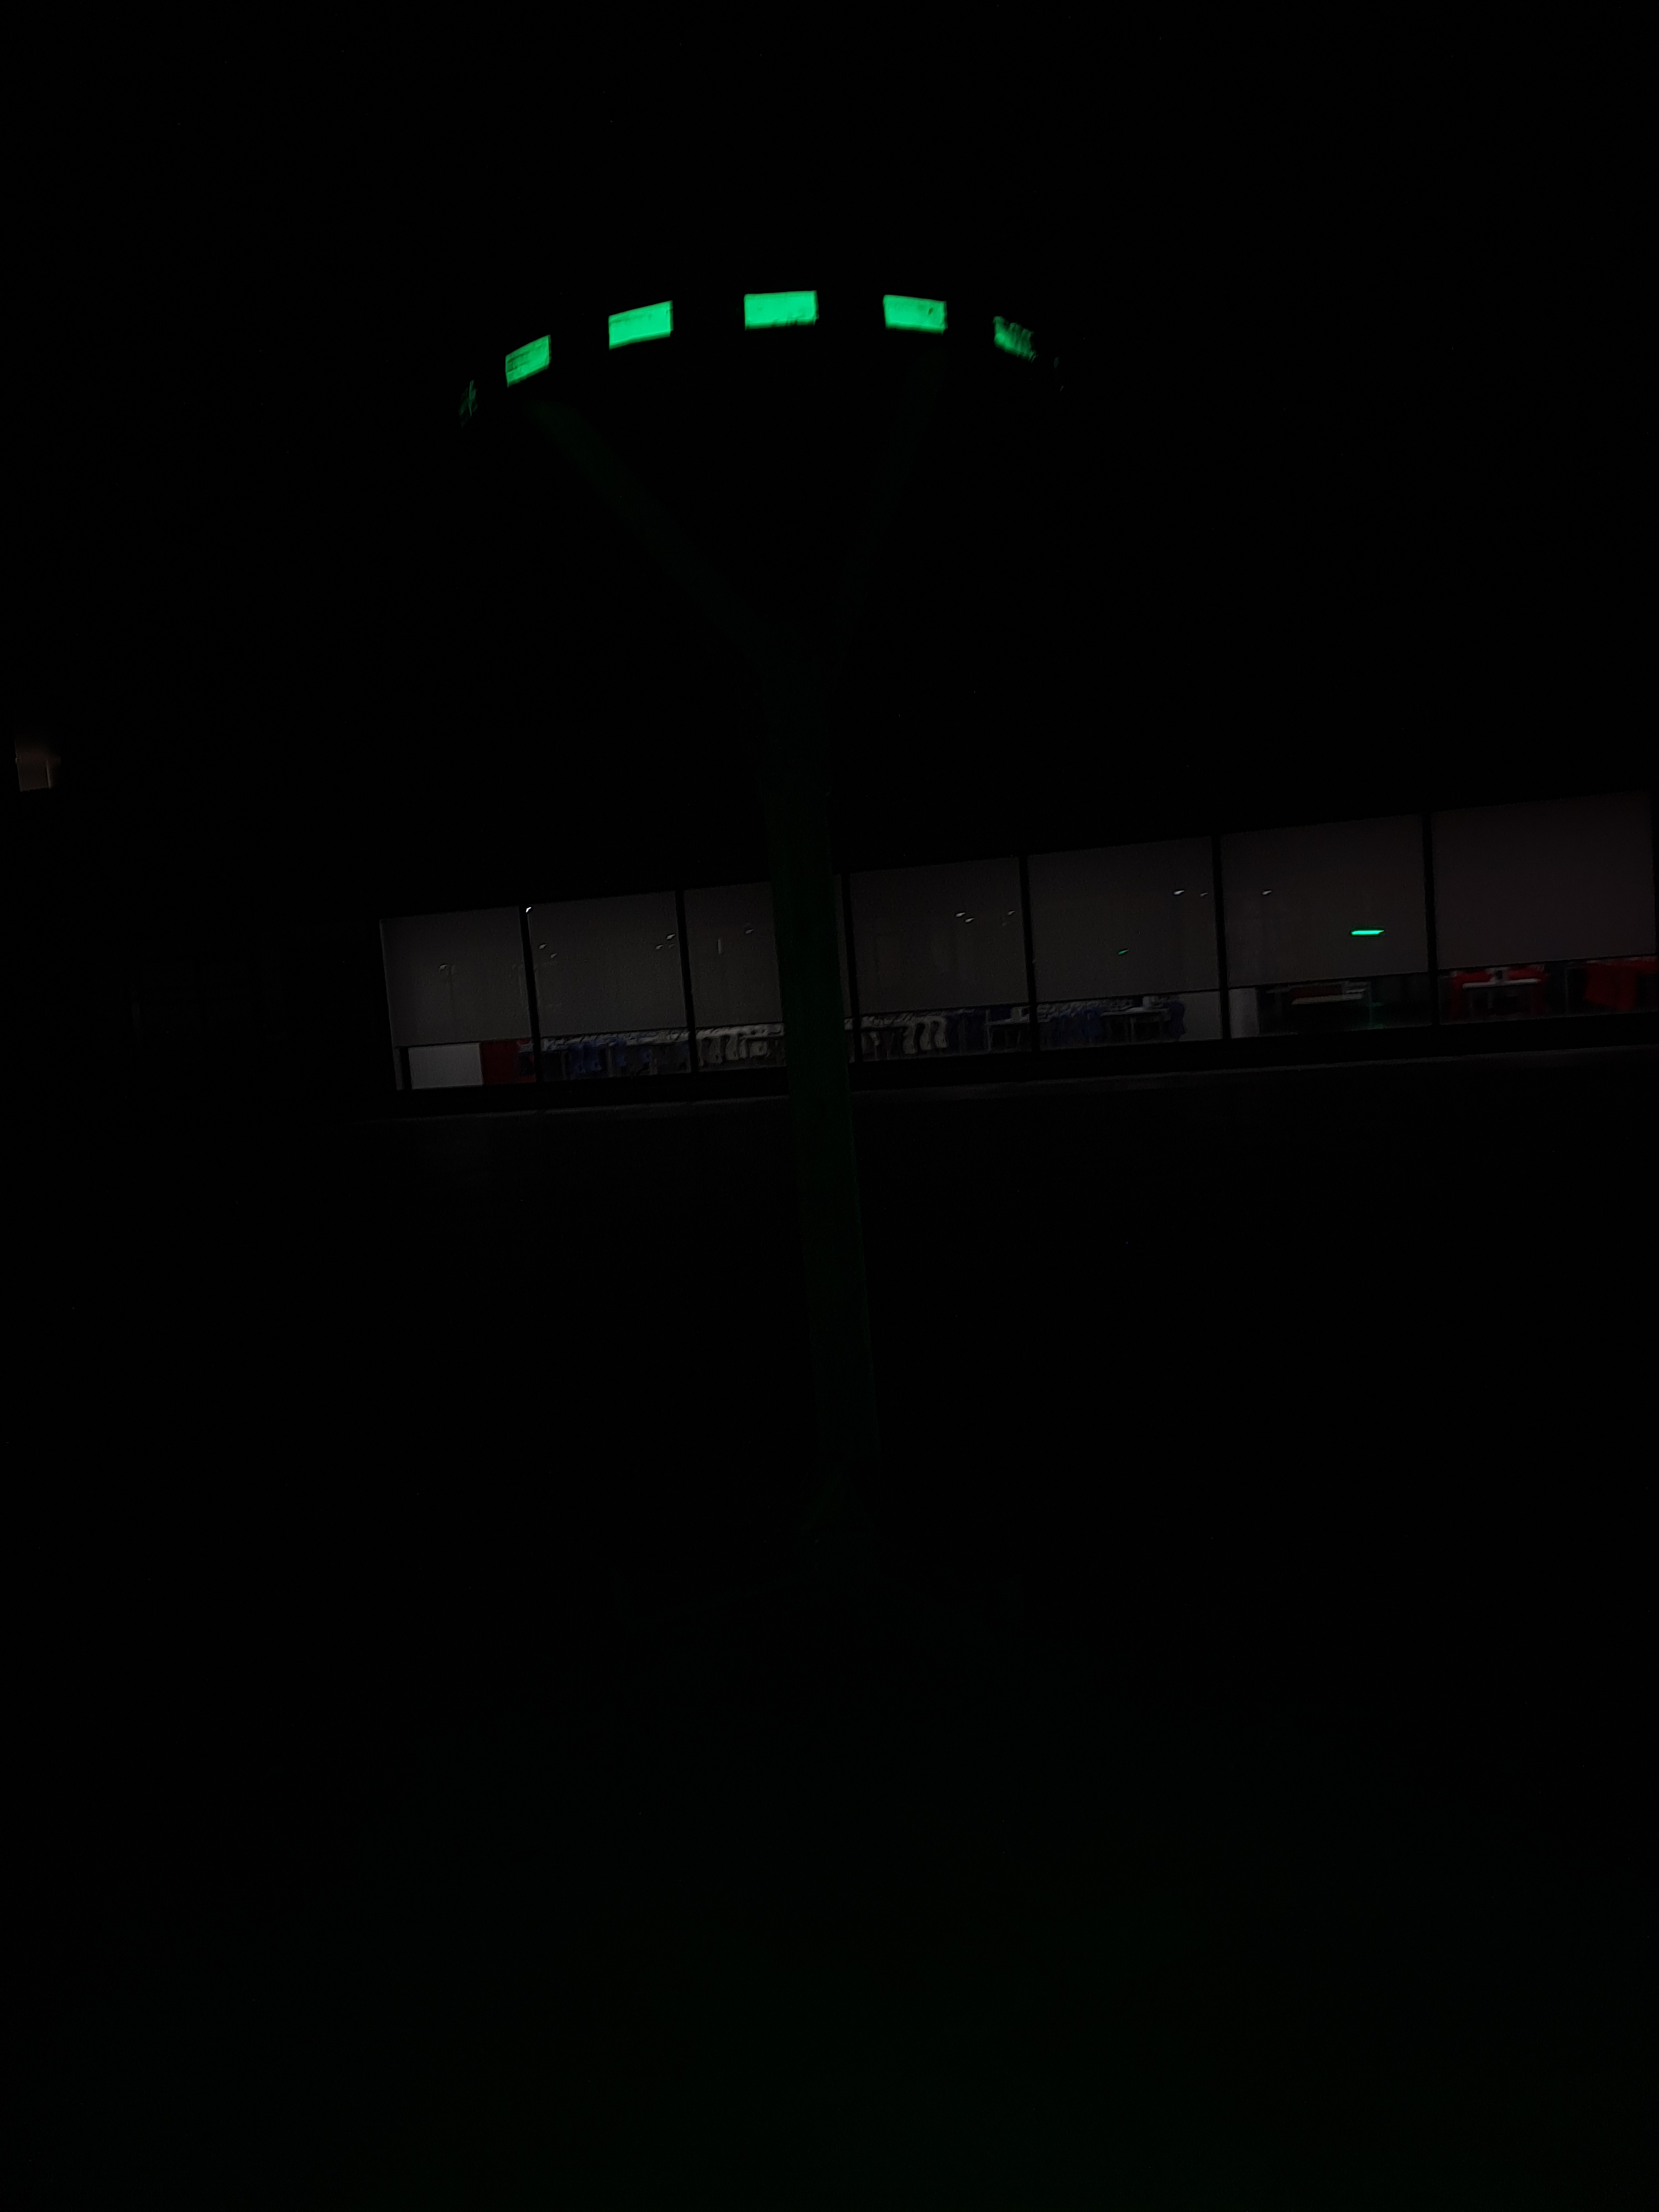hoop: (498, 293, 1049, 390)
